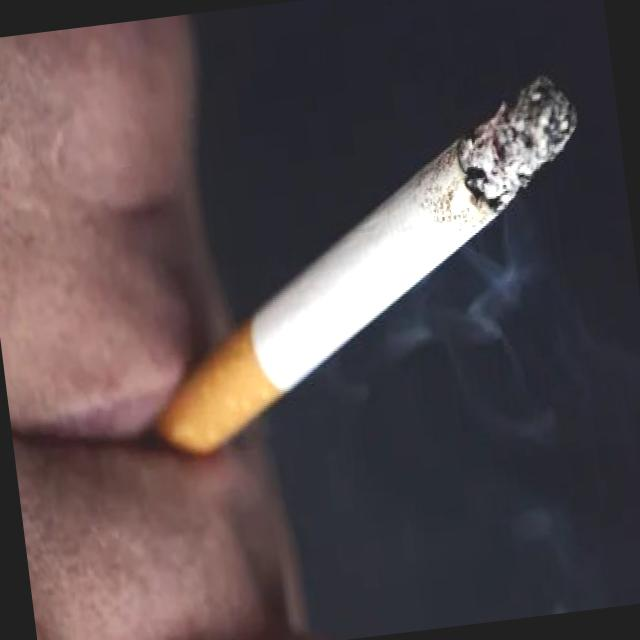cigarette: (112, 68, 616, 476)
